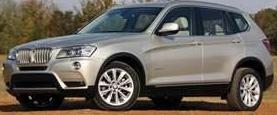front_view: (4, 43, 99, 91)
headlight: (54, 44, 98, 61)
side_glass: (152, 5, 251, 40)
